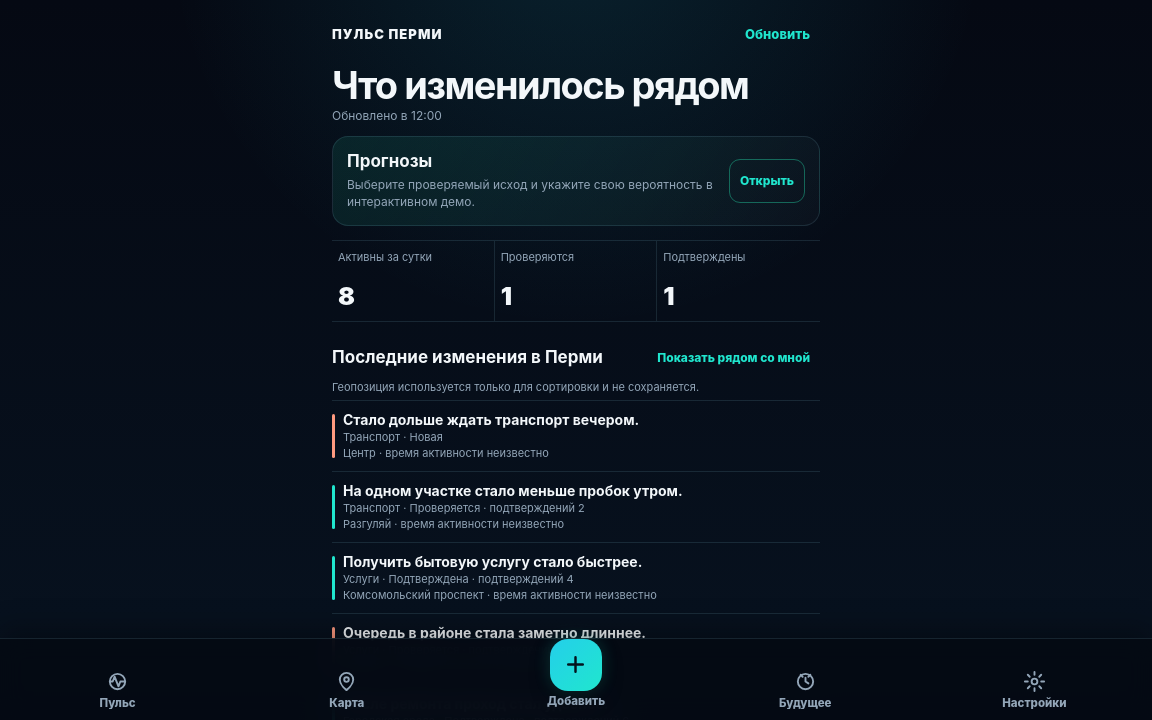
Test: MobilePulsePage › preserves the city feed when geolocation is denied
Click the button "Показать рядом со мной": point(734, 358) x1=647 y1=336 x2=820 y2=380
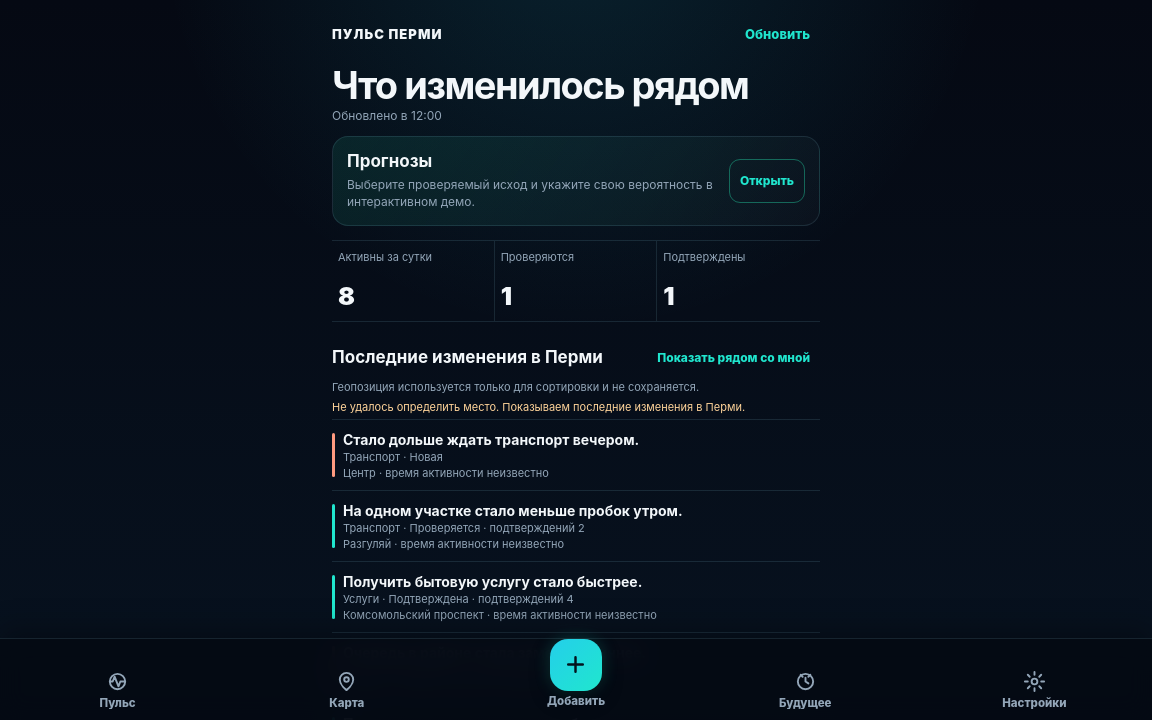
Expected: the text "Стало дольше ждать транспорт вечером." is shown, x1=343 y1=431 x2=639 y2=448
Now the text "Не удалось определить место. Показываем последние изменения в Перми." is shown, box x1=332 y1=400 x2=745 y2=414
